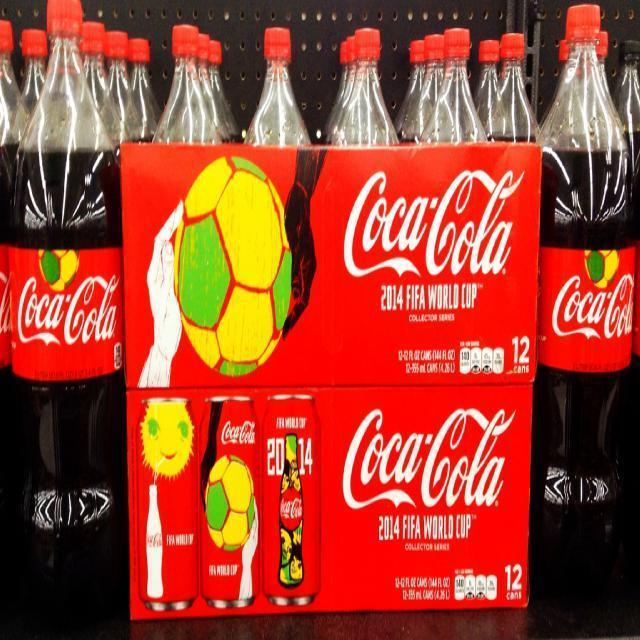ball: (172, 157, 292, 378)
